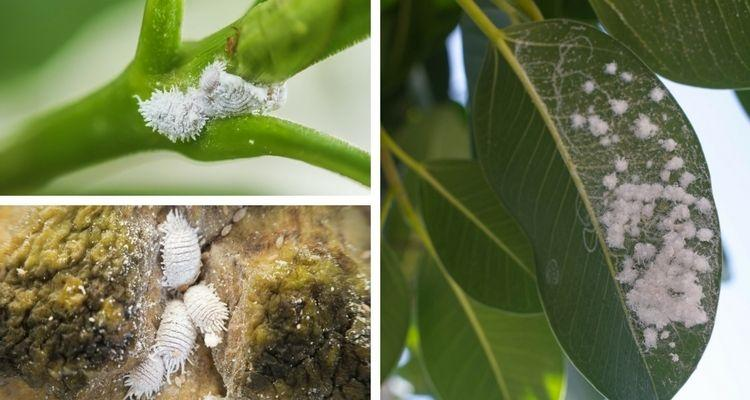pseudococcidae: (518, 32, 722, 384), (107, 213, 244, 399), (124, 47, 292, 150)
